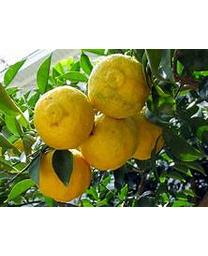lemon: (88, 55, 150, 118), (35, 88, 94, 149), (34, 148, 93, 202), (82, 115, 137, 169)
